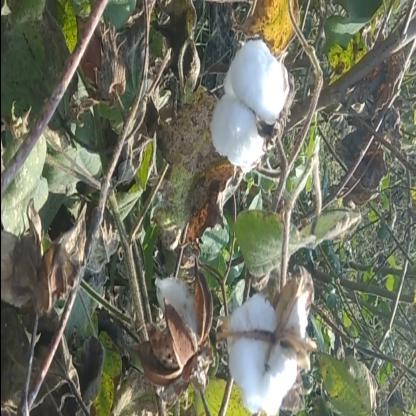cotton_ready: (216, 262, 332, 414), (192, 50, 301, 185)
